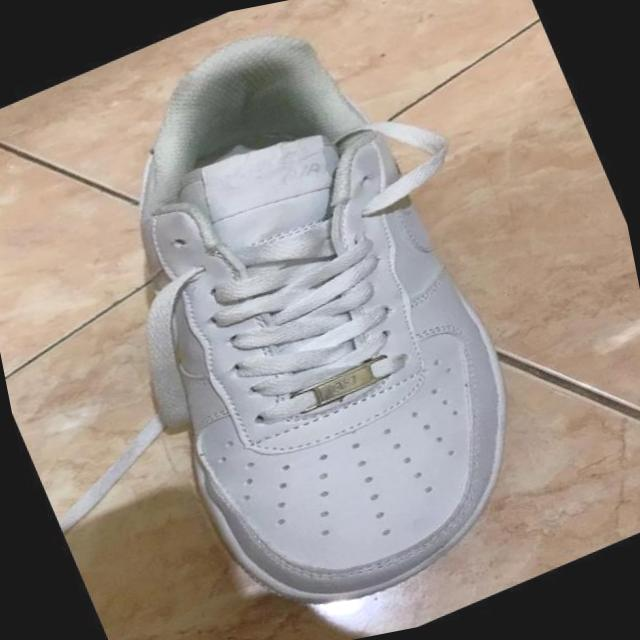nike_fake_airforce: (13, 0, 583, 640)
